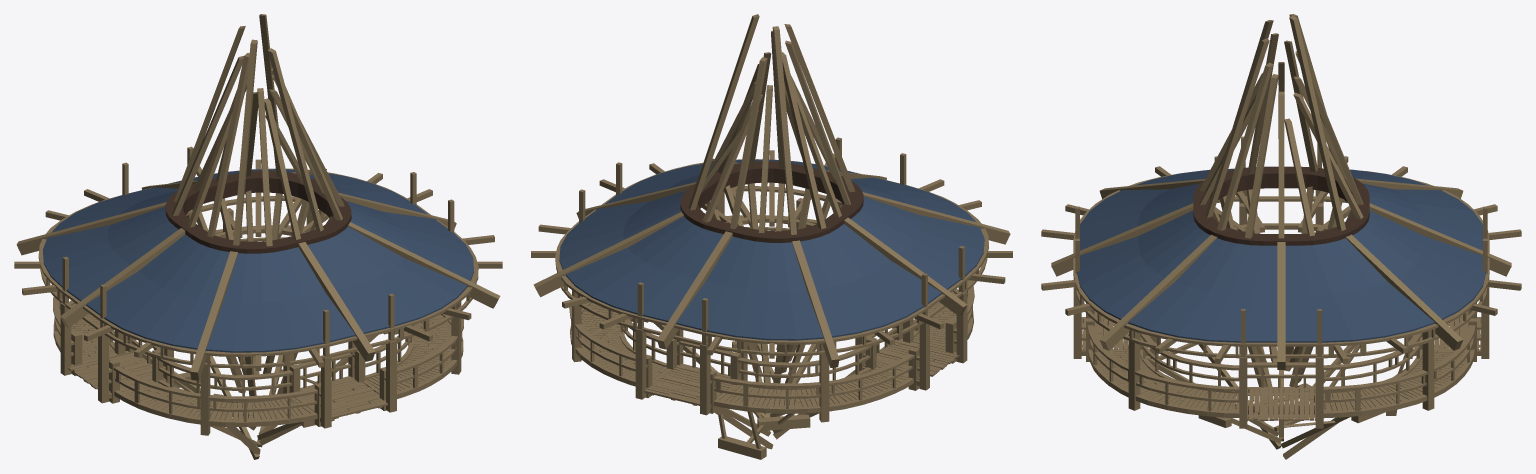
File: Extra Boardwalks.fbx
3 renders of one model, left to right at view 1: azimuth 30°, elevation 25°; view 2: azimuth 150°, elevation 25°; view 3: azimuth 270°, elevation 25°, orthographic. The views are drawn at different scales.
Visible parts, largest first — view 1: Center Roof, Center Floor, Center Supports; view 2: Center Roof, Center Floor, Center Supports; view 3: Center Roof, Center Floor, Center Supports.
Part boxes in pixels (bbox=[...]): Center Roof: bbox=[14, 14, 502, 395]; Center Floor: bbox=[53, 146, 463, 435]; Center Supports: bbox=[88, 329, 432, 459]; Center Roof: bbox=[531, 14, 1012, 383]; Center Floor: bbox=[569, 137, 974, 422]; Center Supports: bbox=[604, 316, 940, 459]; Center Roof: bbox=[1041, 14, 1521, 403]; Center Floor: bbox=[1073, 136, 1489, 428]; Center Supports: bbox=[1103, 318, 1459, 459].
Size of the model in its own units: 1887 by 1934 by 1887.
